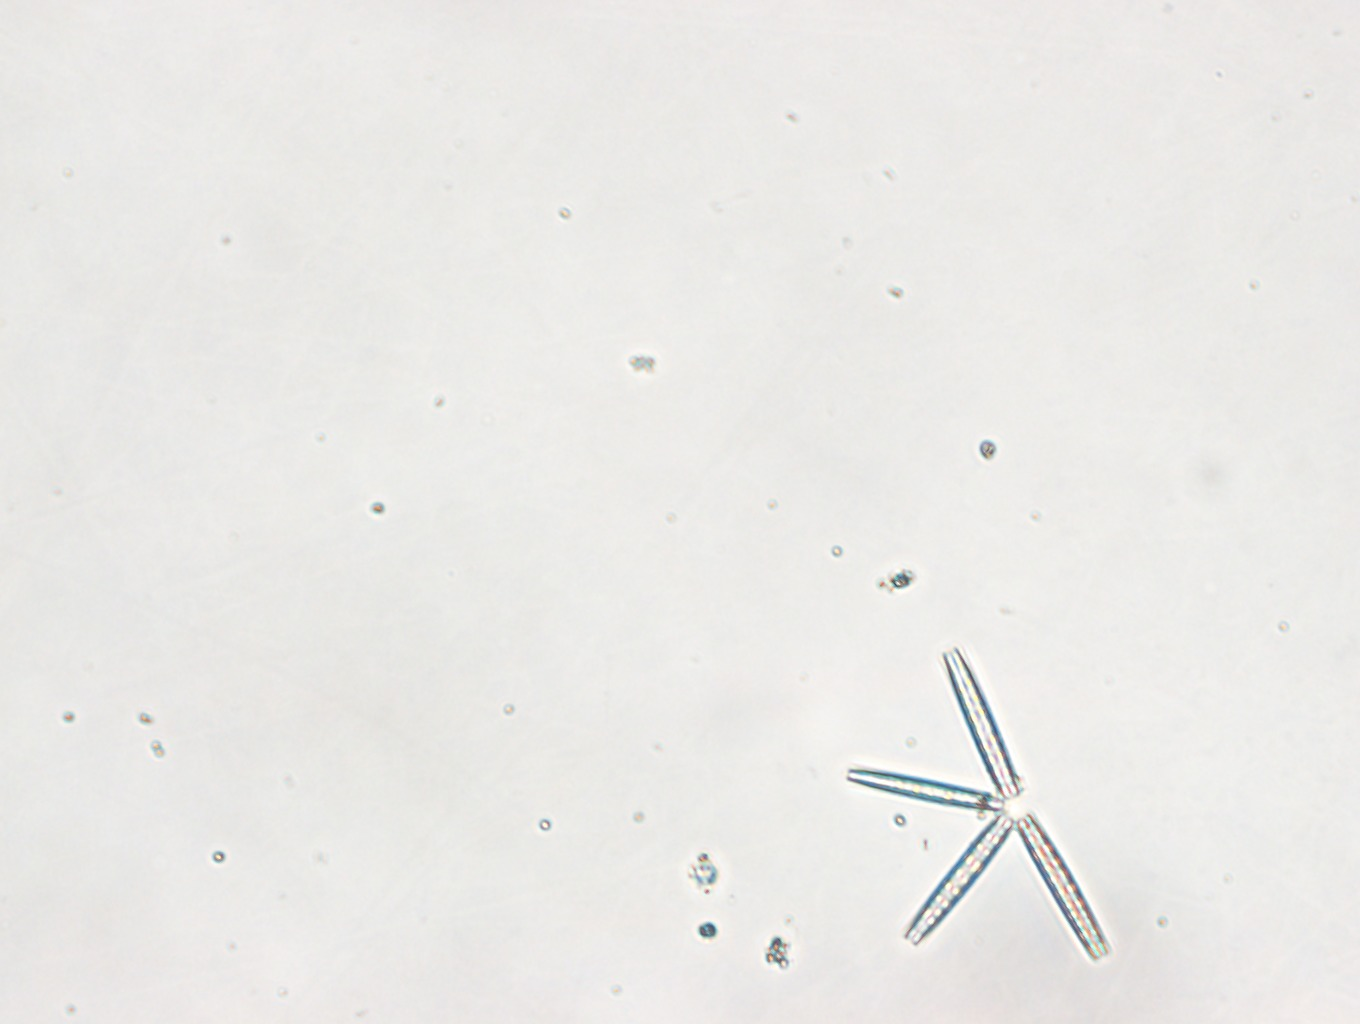thalassionema nitzschioides: (846, 645, 1110, 962)
